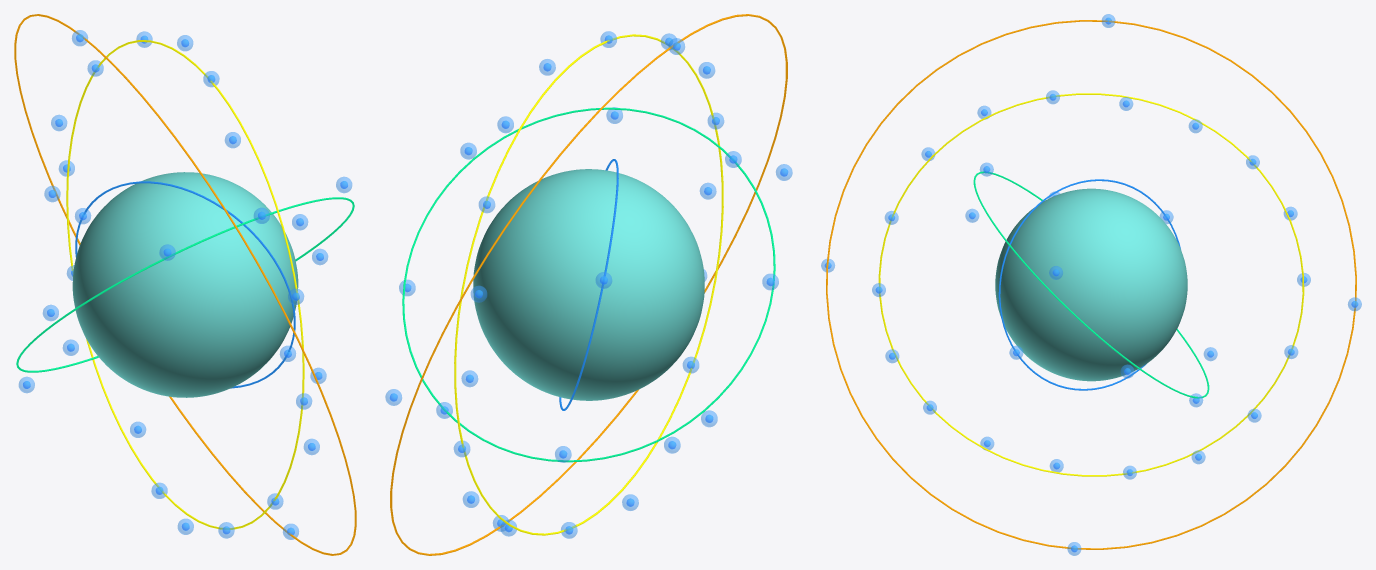
3 renders of one model, left to right at view 1: azimuth 30°, elevation 25°; view 2: azimuth 150°, elevation 25°; view 3: azimuth 270°, elevation 25°, orthographic. The views are drawn at different scales.
Parts seen in each view (by area): view 1: Ge, object 61, object 24, object 7, object 2; view 2: Ge, object 61, object 24, object 7, object 2; view 3: Ge, object 61, object 24, object 2, object 7.
Boxes of the visible parts, bbox=[...] form: Ge: bbox=[72, 172, 298, 397]; object 61: bbox=[14, 14, 356, 555]; object 24: bbox=[66, 40, 304, 529]; object 7: bbox=[16, 197, 354, 372]; object 2: bbox=[75, 181, 295, 388]; Ge: bbox=[473, 169, 704, 400]; object 61: bbox=[390, 14, 787, 555]; object 24: bbox=[454, 34, 723, 535]; object 7: bbox=[402, 107, 775, 462]; object 2: bbox=[559, 159, 618, 410]; Ge: bbox=[995, 188, 1187, 381]; object 61: bbox=[826, 20, 1356, 549]; object 24: bbox=[878, 93, 1304, 476]; object 2: bbox=[998, 179, 1180, 390]; object 7: bbox=[973, 171, 1209, 398].
Size of the model in its own units: 3.63 by 5.76 by 6.12.
